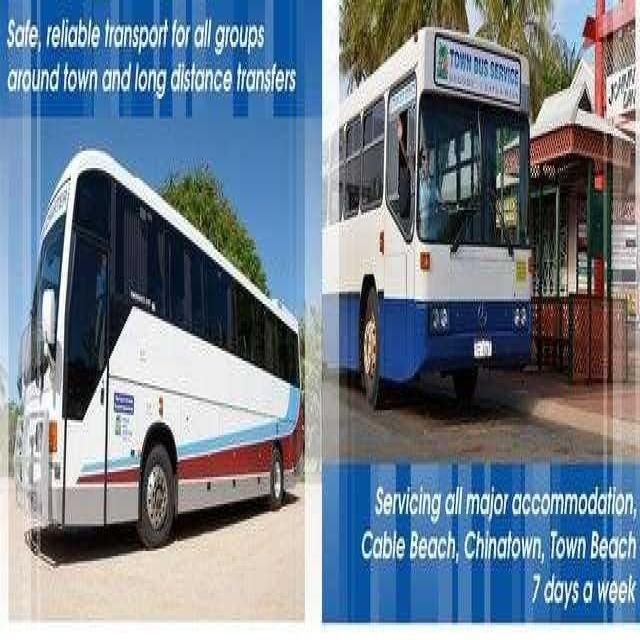Bus: (13, 130, 302, 569), (313, 31, 538, 415)
